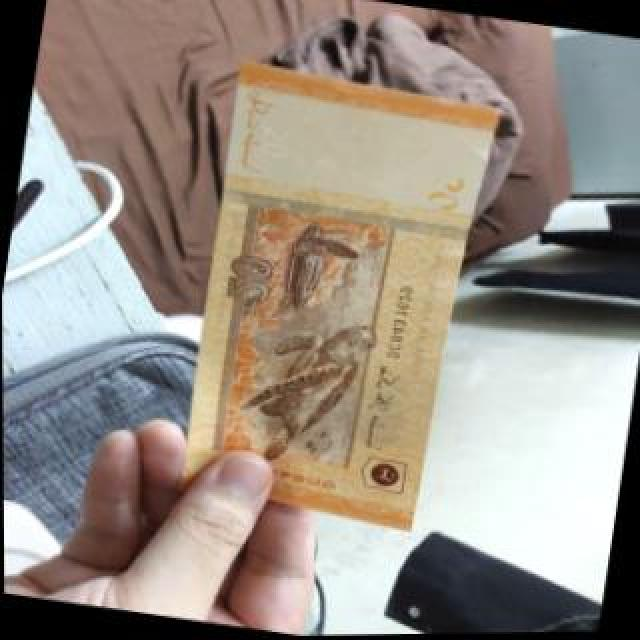20 Ringgit: (172, 54, 493, 540)
